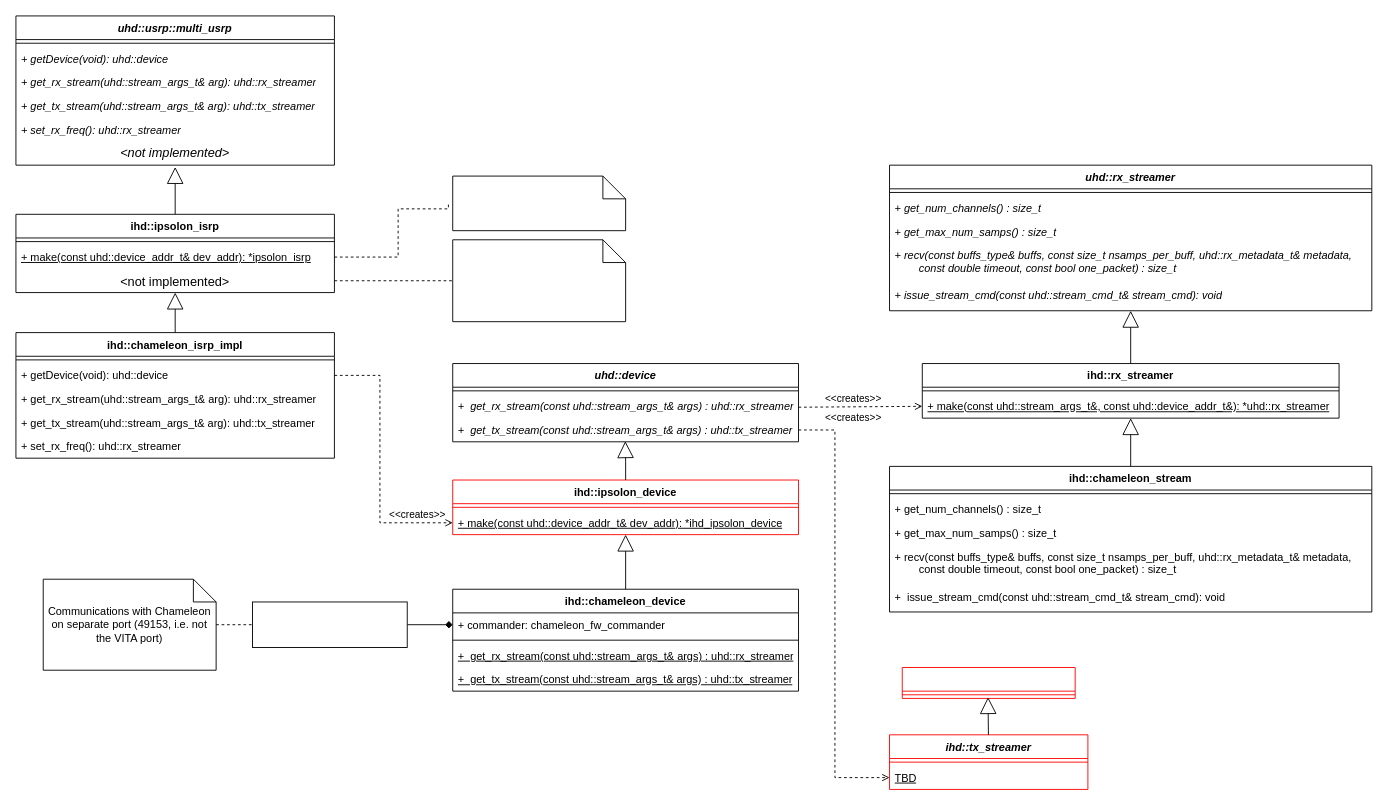
Image size: 1388x808. Some labels were removed from this diagram. Here are the shapes that lost their labels. From the top down, the centre of each, then its label:
At (x=539, y=203): "Factory to create Ipsolon implementation".
At (x=539, y=280): "Unused functions derived from mutli_usrp throws unimplemented exceptions".
At (x=329, y=624): "chameleon_fw_commander".
At (x=988, y=682): "uhd::tx_streamer".
